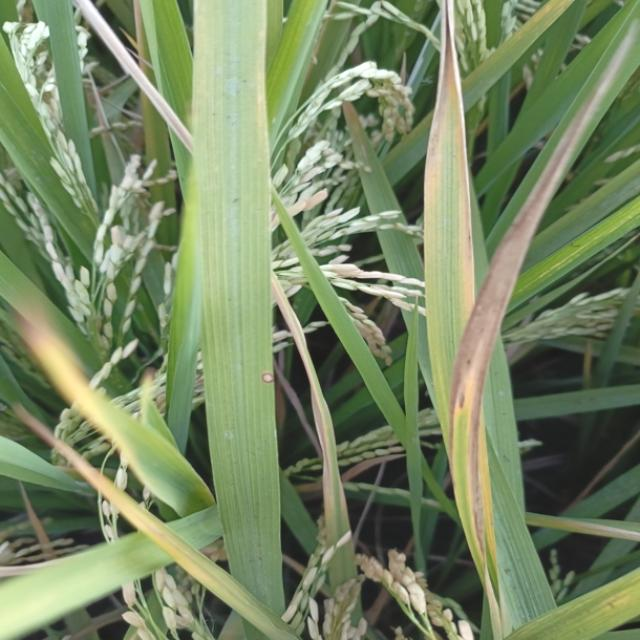Brown spot: (449, 262, 503, 577), (420, 0, 478, 239), (326, 78, 373, 154)
